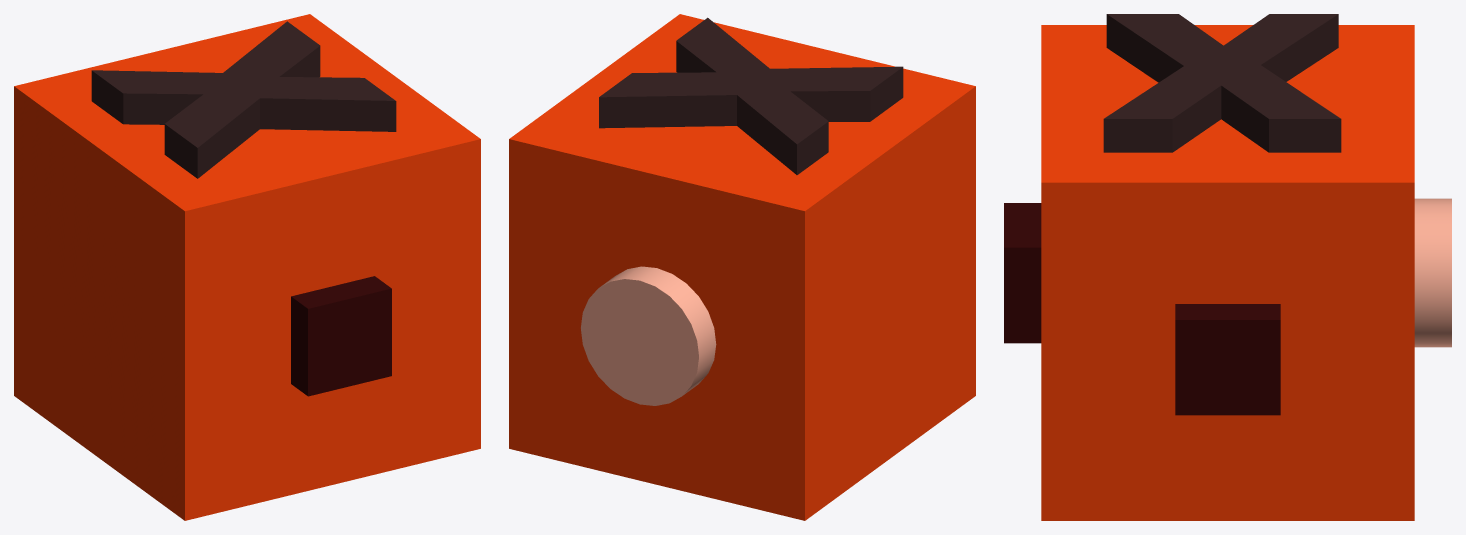
Rendered from Multiplication_Operator.dae.
The picture shows the model from 3 angles, left to right: view 1: azimuth 30°, elevation 25°; view 2: azimuth 150°, elevation 25°; view 3: azimuth 270°, elevation 25°; orthographic projection. The views are drawn at different scales.
Visible parts, largest first — view 1: SketchUp (×2), X; view 2: SketchUp (×2), X; view 3: SketchUp (×4), X.
Boxes of the visible parts, <box> form: SketchUp (×2): <box>14,14,480,520</box>; X: <box>91,21,396,178</box>; SketchUp (×2): <box>509,14,975,520</box>; X: <box>599,17,903,174</box>; SketchUp (×4): <box>1004,25,1451,520</box>; X: <box>1103,14,1341,152</box>.
Bounding box in the file's own units: 43.31 × 47.24 × 43.31.
